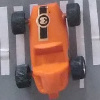naranja_norte: (12, 2, 85, 97)
